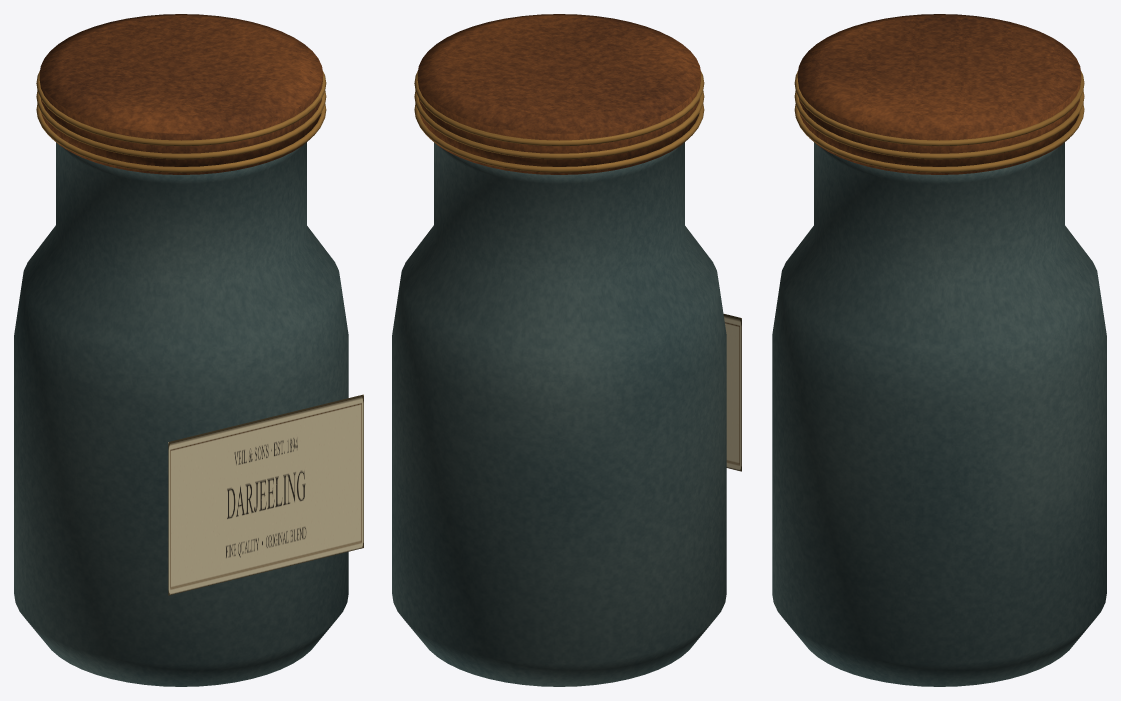
The model's file is JarTea.fbx.
3 views of the same model, side by side, from view 1: azimuth 30°, elevation 25°; view 2: azimuth 150°, elevation 25°; view 3: azimuth 270°, elevation 25° (orthographic).
Visible parts, largest first — view 1: JarTea_GlassPatina, JarTea_Copper, JarTea_Decals, JarTea_Brass; view 2: JarTea_GlassPatina, JarTea_Copper, JarTea_Brass, JarTea_Decals; view 3: JarTea_GlassPatina, JarTea_Copper, JarTea_Brass.
Part boxes in pixels (box(x1,y1,x2,y2)): JarTea_GlassPatina: box(14, 142, 348, 686); JarTea_Copper: box(39, 14, 323, 174); JarTea_Decals: box(168, 394, 363, 595); JarTea_Brass: box(36, 71, 326, 172); JarTea_GlassPatina: box(392, 142, 726, 686); JarTea_Copper: box(417, 14, 701, 174); JarTea_Brass: box(414, 71, 704, 172); JarTea_Decals: box(723, 314, 741, 471); JarTea_GlassPatina: box(772, 142, 1106, 686); JarTea_Copper: box(797, 14, 1081, 174); JarTea_Brass: box(794, 70, 1084, 172).
Size of the model in its own units: 16 by 29.6 by 16.1.
